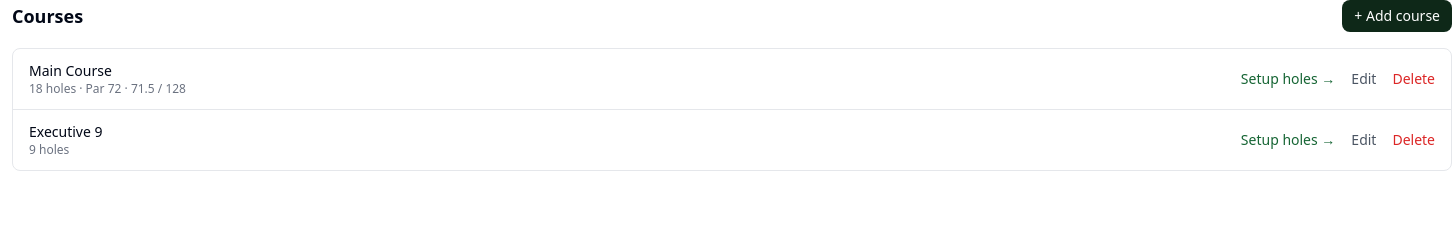
Test: CourseListClient › shows error when delete fails
The width and height of the screenshot is (1452, 242).
Click the button "Delete" in the row of "/ 128": point(1414, 79) [1392,69,1435,89]
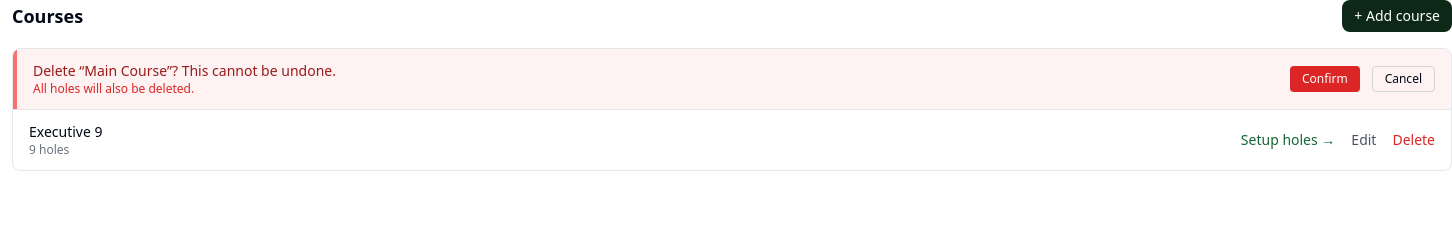
Click the button "Confirm": point(1325, 79) [1290,66,1360,92]
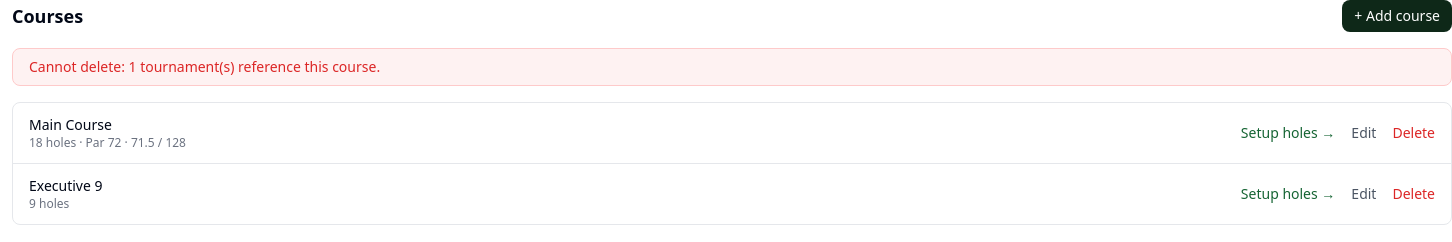
expect the message shows "Cannot delete": met, box [29,57,380,76]
